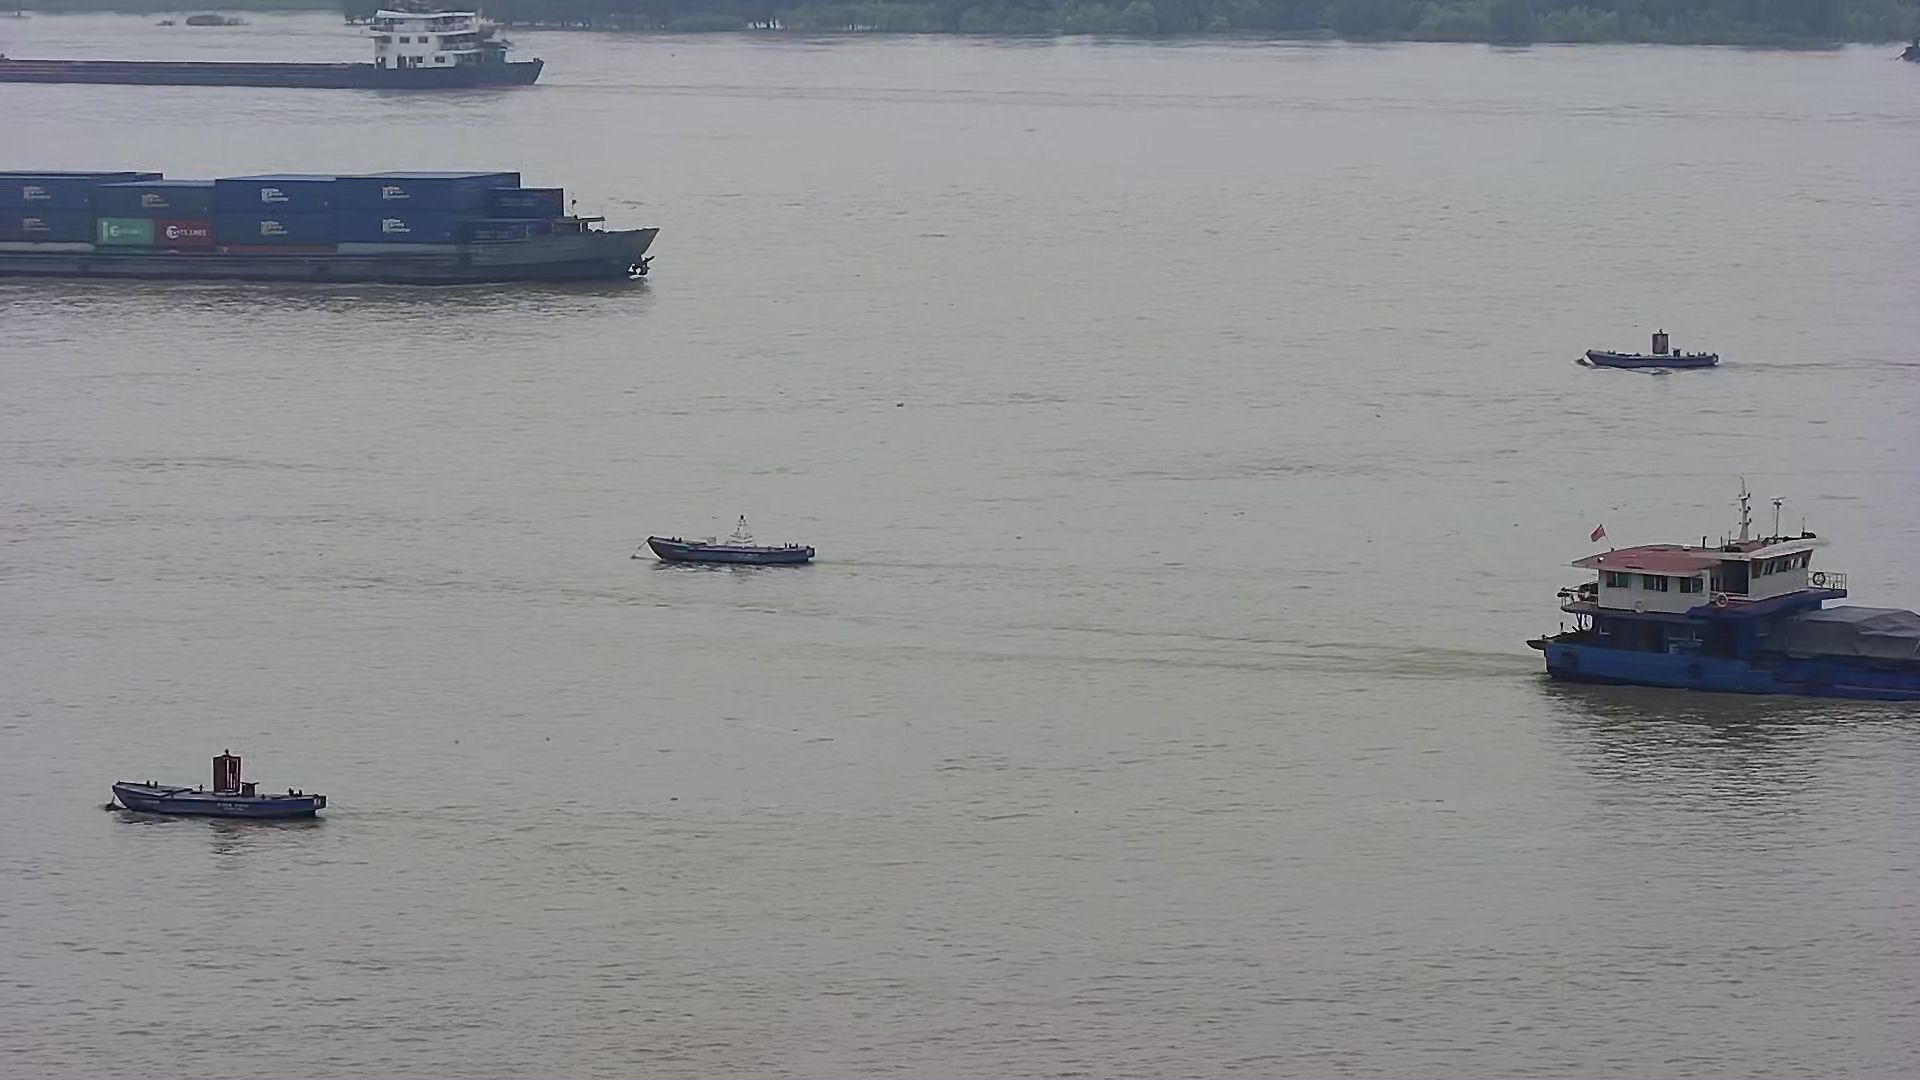boat: (98, 744, 339, 831), (622, 501, 825, 578), (1572, 314, 1737, 377)
ship: (1526, 467, 1920, 707), (1, 148, 673, 287), (1, 1, 564, 100)
